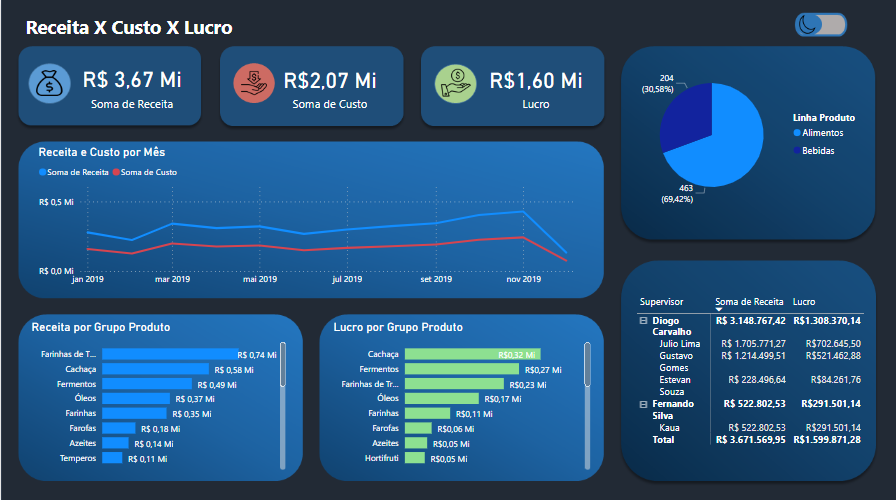

The dashboard page shown, as its layout file describes it:
{"tool":"powerbi","page":{"name":"Dark","canvas":[1280,720],"ordinal":0},"visuals":[{"type":"card","fields":{"Values":["Sum(Receita.Receita)"]},"box":[84.3,71.4,205.7,101.4],"z":0},{"type":"clusteredBarChart","title":"Receita por Grupo Produto","fields":{"Category":["Cadastro de Produtos.Grupo Produto"],"Y":["Sum(Receita.Receita)"]},"box":[38.6,457.1,372.9,218.6],"z":1000},{"type":"pieChart","fields":{"Category":["Cadastro de Produtos.Linha Produto"],"Y":["CountNonNull(Cadastro de Produtos.Linha Produto)"]},"box":[894.3,71.4,347.1,242.9],"z":2000},{"type":"card","fields":{"Values":["Sum(Receita.Custo)"]},"box":[340,67.1,260,111.4],"z":3000},{"type":"card","fields":{"Values":["Receita.Margem"]},"box":[634.3,67.1,260,111.4],"z":4000},{"type":"lineChart","title":"Receita e Custo por Mês","fields":{"Category":["Receita.Data.1.Variation.Hierarquia de datas.Ano","Receita.Data.1.Variation.Hierarquia de datas.Trimestre","Receita.Data.1.Variation.Hierarquia de datas.Mês","Receita.Data.1.Variation.Hierarquia de datas.Dia"],"Y":["Sum(Receita.Receita)","Sum(Receita.Custo)"]},"box":[48.6,207.1,788.6,210],"z":5000},{"type":"pivotTable","title":"Receita por Vendedor","fields":{"Rows":["Receita.Supervisor","Receita.Vendedor"],"Values":["Sum(Receita.Receita)","Receita.Lucro"]},"box":[902.9,417.1,338.6,288.6],"z":6000},{"type":"clusteredBarChart","title":"Lucro por Grupo Produto","fields":{"Category":["Cadastro de Produtos.Grupo Produto"],"Y":["Receita.Lucro"]},"box":[470,457.1,377.1,218.6],"z":7000},{"type":"textbox","box":[30,14.3,440,57.1],"z":8000},{"type":"actionButton","box":[1132.9,14.3,77.1,40],"z":9000}]}

Visuals, with their boxes in screenshot pixels (x1, y1, x2, y2), scaled from the page's 1280x720 canvas onto the 896x500 screenshot:
card - Sum(Receita.Receita): <region>59, 50, 203, 120</region>
"Receita por Grupo Produto" clusteredBarChart: <region>27, 317, 288, 469</region>
pieChart - Cadastro de Produtos.Linha Produto x CountNonNull(Cadastro de Produtos.Linha Produto): <region>626, 50, 869, 218</region>
card - Sum(Receita.Custo): <region>238, 47, 420, 124</region>
card - Receita.Margem: <region>444, 47, 626, 124</region>
"Receita e Custo por Mês" lineChart: <region>34, 144, 586, 290</region>
"Receita por Vendedor" pivotTable: <region>632, 290, 869, 490</region>
"Lucro por Grupo Produto" clusteredBarChart: <region>329, 317, 593, 469</region>
textbox: <region>21, 10, 329, 50</region>
actionButton: <region>793, 10, 847, 38</region>
